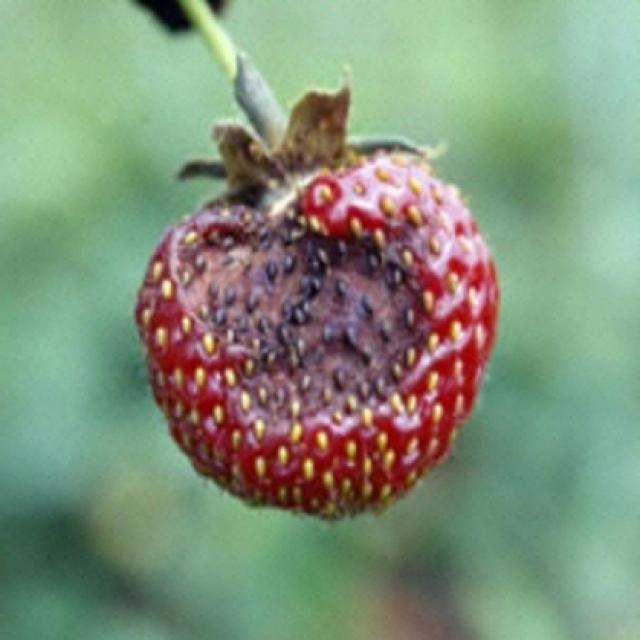Anthracnose Fruit Rot: (154, 196, 471, 445)
